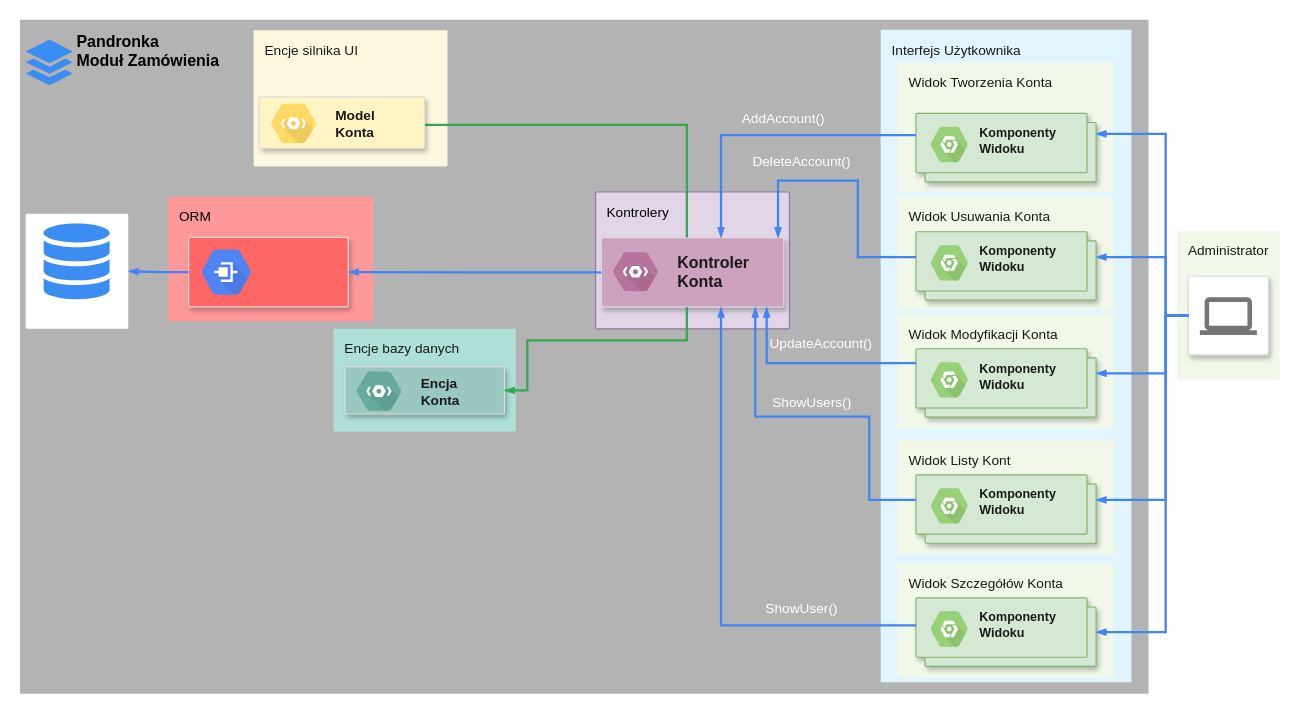
Image size: 1298x714. Some labels were removed from this diagram. Each missing label, with the centre of its shape:
Adapter dostępowy: pixel 225 271
Baza danych: pixel 76 261
